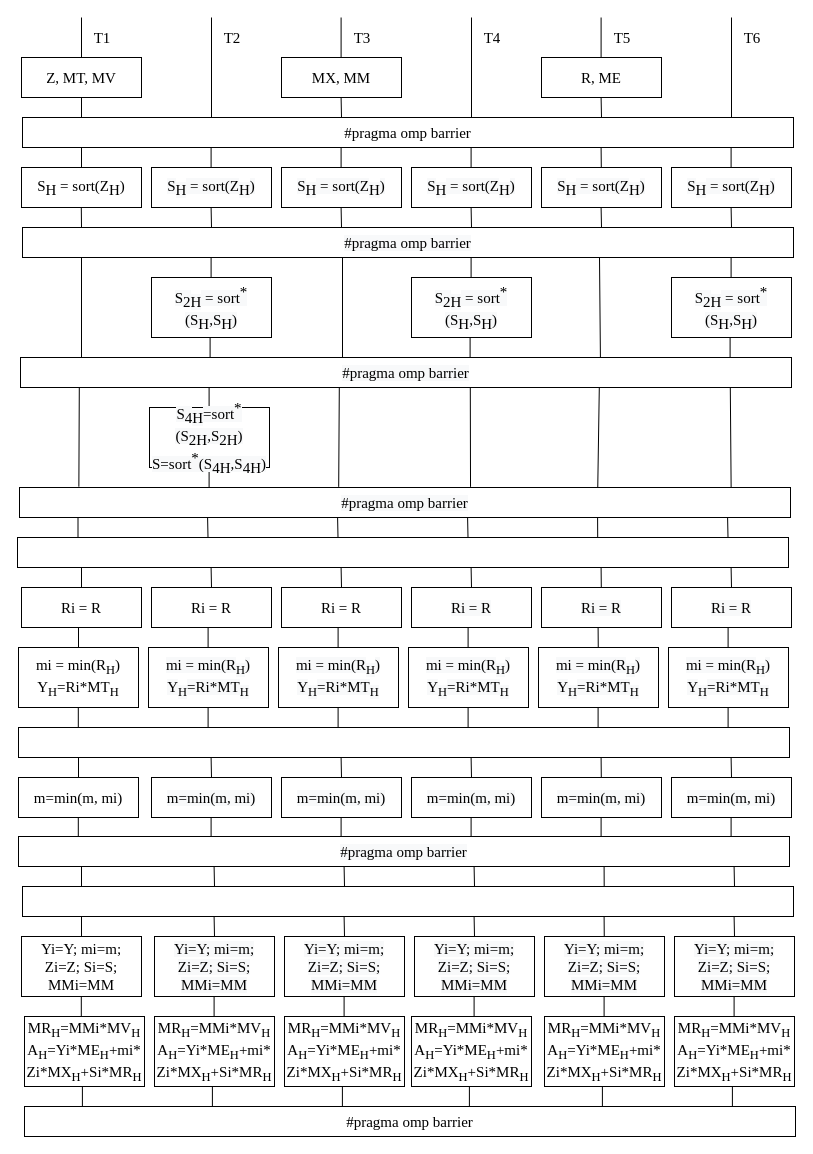
This 813x1154 diagram has some shape labels left out. Each missing label, with the centre of its shape:
"#pragma omp critical(Copy2)" goes at point (408, 901).
"#pragma omp critical(CopyR)" goes at point (402, 552).
"#pragma omp critical(min)" goes at point (404, 742).
